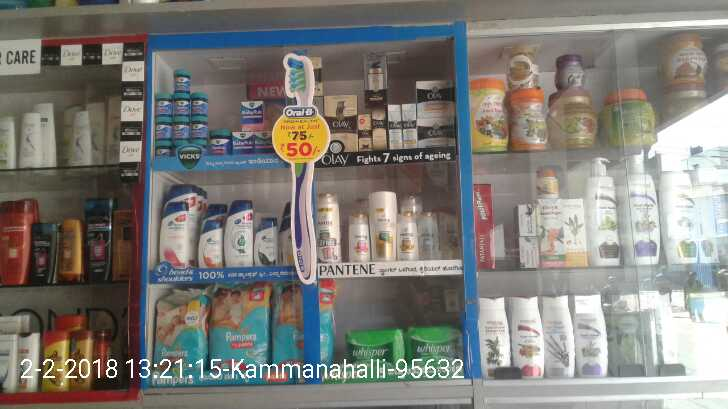beauty: (153, 190, 200, 270), (361, 187, 402, 258), (397, 205, 445, 263), (313, 182, 346, 261), (325, 89, 361, 160), (223, 197, 256, 270), (416, 115, 456, 154), (195, 217, 224, 268), (418, 76, 453, 117), (258, 218, 286, 267), (387, 104, 413, 155), (348, 213, 372, 260), (367, 107, 390, 149)
pharmacy: (208, 284, 273, 373), (147, 287, 205, 381), (409, 315, 465, 380), (347, 328, 407, 373), (234, 94, 274, 132), (161, 65, 202, 94), (170, 112, 207, 139), (150, 114, 176, 142), (190, 94, 212, 119), (153, 89, 174, 114), (172, 94, 193, 114)
